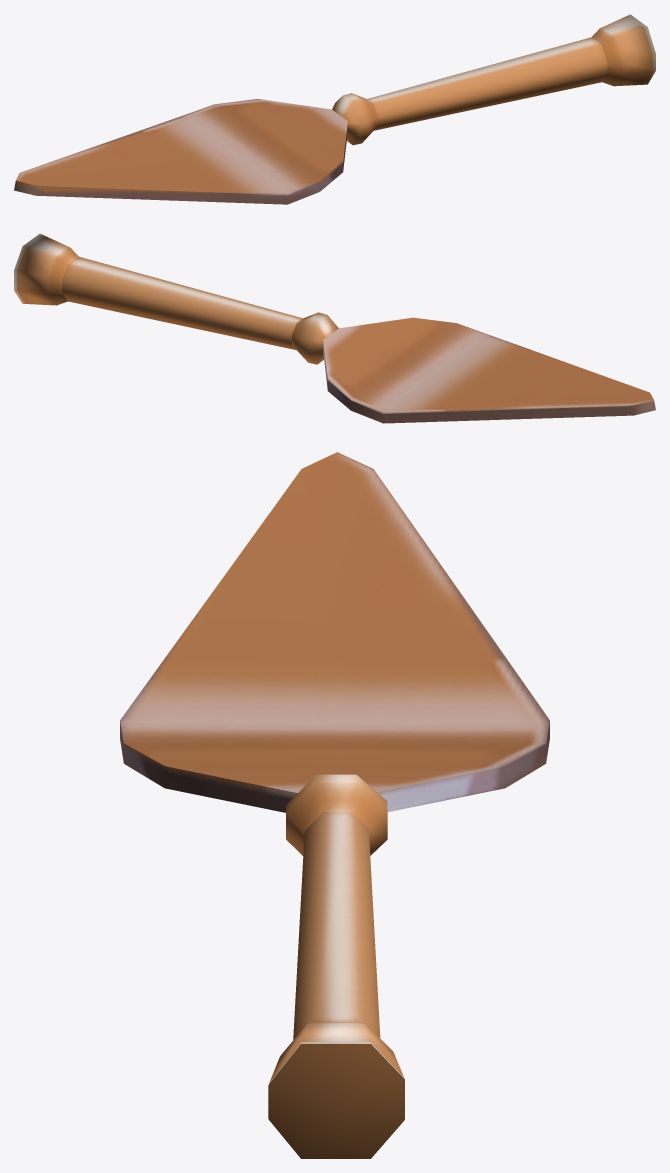
The model's file is Cake_Server_01.fbx.
The picture shows the model from 3 angles, top to bottom: view 1: azimuth 30°, elevation 25°; view 2: azimuth 150°, elevation 25°; view 3: azimuth 270°, elevation 25°; orthographic projection. The views are drawn at different scales.
Parts seen in each view (by area): view 1: Cake_Server_01; view 2: Cake_Server_01; view 3: Cake_Server_01.
Boxes of the visible parts, box(x1,y1,x2,y2) form: Cake_Server_01: box(14, 14, 655, 204); Cake_Server_01: box(14, 233, 655, 423); Cake_Server_01: box(120, 452, 549, 1158).
Size of the model in its own units: 114 by 9.88 by 33.46.
